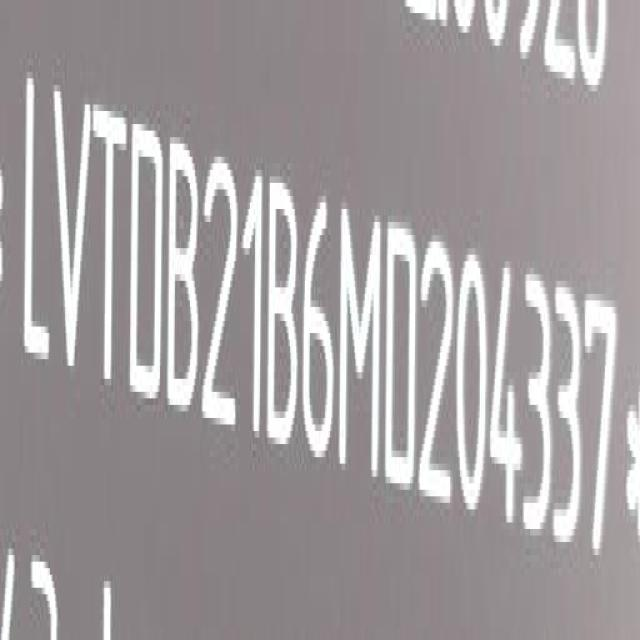0: (456, 225, 488, 525)
1: (240, 136, 264, 448)
2: (201, 118, 241, 454), (421, 215, 455, 522)
3: (584, 291, 621, 568), (549, 278, 584, 561), (521, 264, 552, 539)
4: (490, 242, 524, 532)
6: (302, 164, 334, 470)
B: (165, 116, 201, 428), (268, 148, 299, 462)
D: (130, 94, 164, 416), (384, 206, 418, 503)
L: (18, 46, 52, 375)
M: (339, 177, 383, 491)
T: (92, 75, 128, 404)
V: (49, 70, 92, 397)
